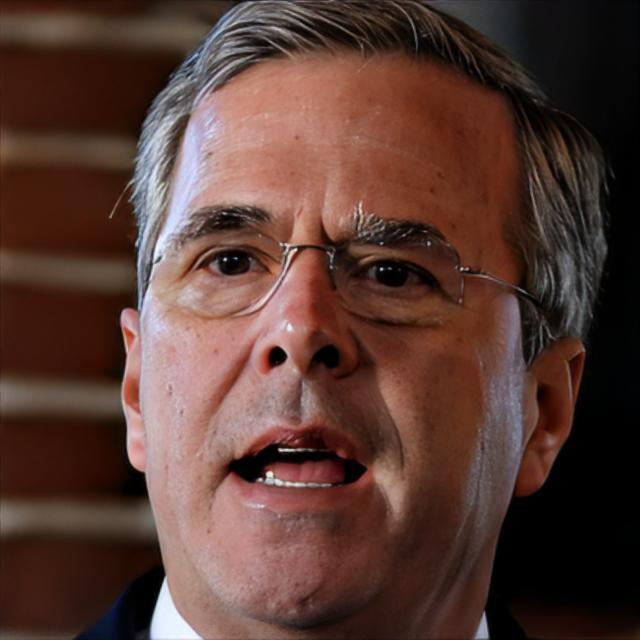anger: (141, 68, 531, 632)
